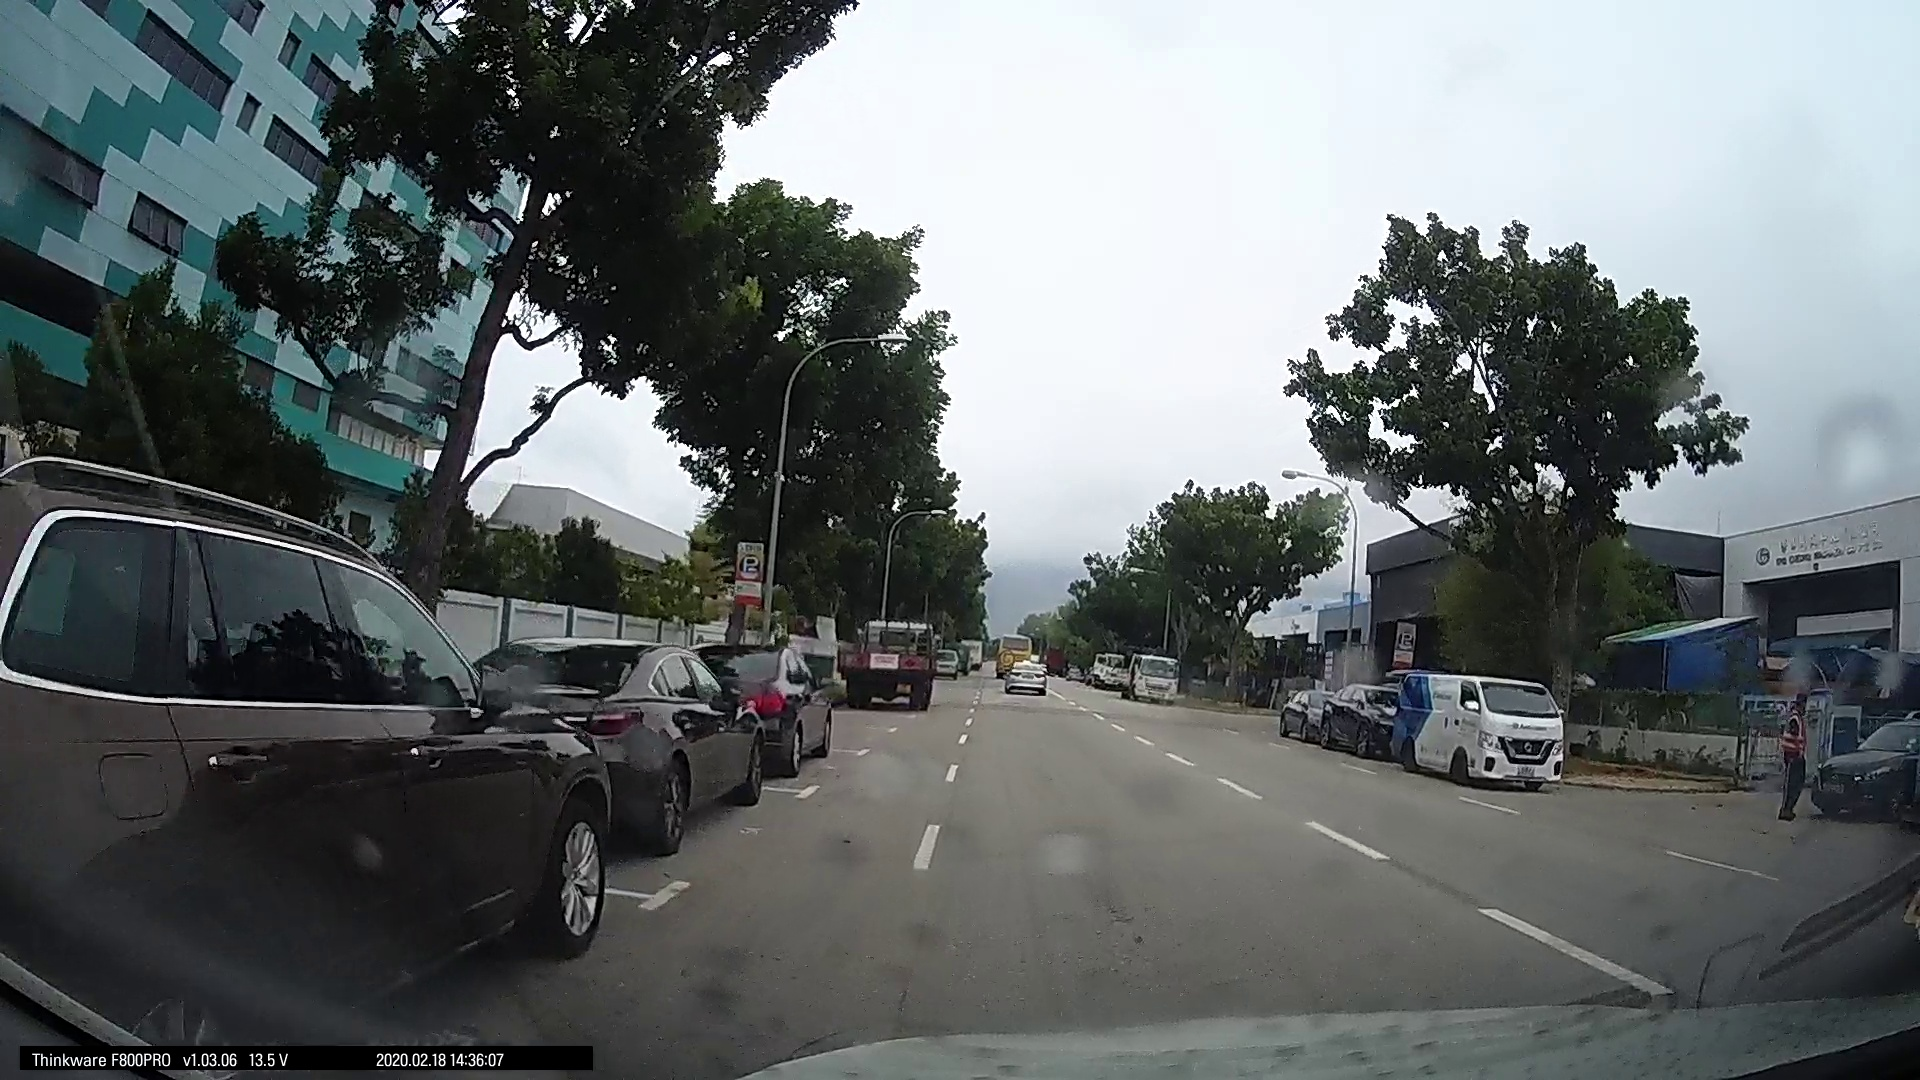Heavy Vehicle: (843, 616, 932, 708)
Light Vehicle: (1, 484, 618, 1007), (558, 638, 758, 849), (1389, 665, 1567, 791), (715, 637, 827, 778), (1812, 705, 1913, 820), (1271, 680, 1342, 745), (1121, 649, 1179, 702), (996, 651, 1047, 694), (931, 640, 963, 676)
